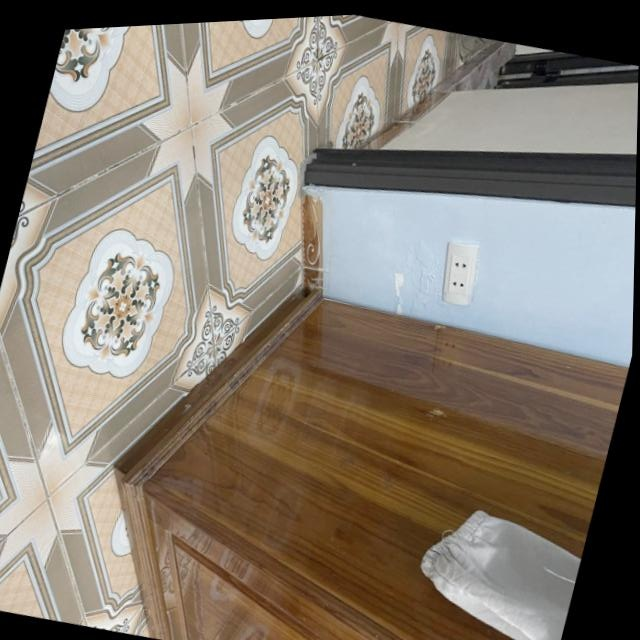outlet: (434, 237, 486, 308)
